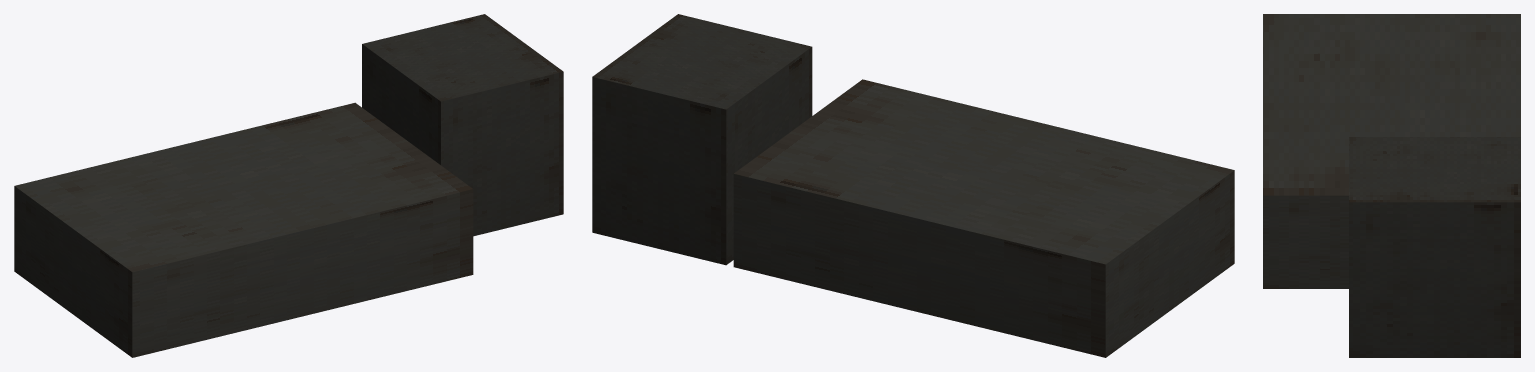
The model's file is prop_mixer.glb.
3 renders of one model, left to right at view 1: azimuth 30°, elevation 25°; view 2: azimuth 150°, elevation 25°; view 3: azimuth 270°, elevation 25°, orthographic. The views are drawn at different scales.
Parts seen in each view (by area): view 1: prop_mixer; view 2: prop_mixer; view 3: prop_mixer.
Part boxes in pixels (x1,y1,x2,y2): prop_mixer: (14, 14, 563, 357); prop_mixer: (592, 14, 1234, 357); prop_mixer: (1263, 14, 1520, 357).
Size of the model in its own units: 0.69 by 0.2 by 0.3.
2 materials, 2 textured.
